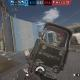Character: (44, 36, 48, 43)
Friend_label: (25, 37, 29, 40)
